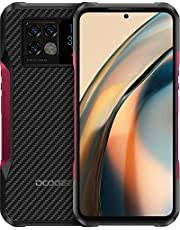Smartphone: (68, 0, 172, 227), (5, 3, 77, 224)
